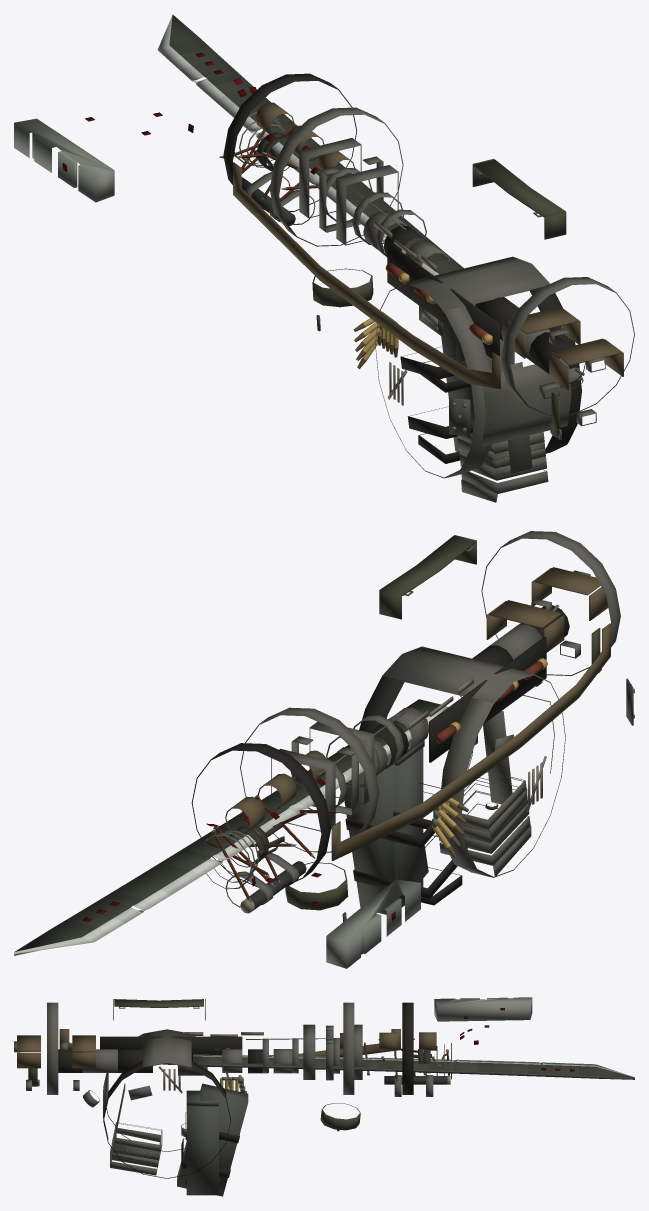
The model's file is weapons.glb.
3 renders of one model, top to bottom at view 1: azimuth 30°, elevation 25°; view 2: azimuth 150°, elevation 25°; view 3: azimuth 270°, elevation 25°, orthographic. The views are drawn at different scales.
Parts seen in each view (by area): view 1: FrissonWeapon_Rocket_Dress, FrissonWeapon_Minigun_DressFlat, FrissonWeapon_Minigun_Dress, FrissonWeapon_Katana_Replace_katanaBlade, FrissonWeapon_Sniper_Dress, FrissonWeapon_Assault_Dress, FrissonWeapon_Pistol_Dress, FrissonWeapon_Shotgun_Dress, FrissonWeapon_Fireaxe_Replace_fireaxeCuttingEdge, FrissonWeapon_Smg_Dress, FrissonWeapon_Bat_Dress, FrissonWeapon_Flamethrower_Dress (+4 smaller); view 2: FrissonWeapon_Rocket_Dress, FrissonWeapon_Katana_Replace_katanaBlade, FrissonWeapon_Minigun_Dress, FrissonWeapon_Assault_Dress, FrissonWeapon_Sniper_Dress, FrissonWeapon_Smg_Dress, FrissonWeapon_Shotgun_Dress, FrissonWeapon_Pistol_Dress, FrissonWeapon_Minigun_DressFlat, FrissonWeapon_Fireaxe_Replace_fireaxeCuttingEdge, FrissonWeapon_Bat_Dress, FrissonWeapon_Rifle_Dress (+4 smaller); view 3: FrissonWeapon_Katana_Replace_katanaBlade, FrissonWeapon_Smg_Dress, FrissonWeapon_Rocket_Dress, FrissonWeapon_Assault_Dress, FrissonWeapon_Sniper_Dress, FrissonWeapon_Shotgun_Dress, FrissonWeapon_Fireaxe_Replace_fireaxeCuttingEdge, FrissonWeapon_Minigun_Dress, FrissonWeapon_Pistol_Dress, FrissonWeapon_Bat_Dress, FrissonWeapon_Minigun_DressFlat, FrissonWeapon_Fireaxe_Dress (+4 smaller).
Part boxes in pixels (<box>): FrissonWeapon_Rocket_Dress: <box>223,73,634,415</box>; FrissonWeapon_Minigun_DressFlat: <box>406,256,571,446</box>; FrissonWeapon_Minigun_Dress: <box>375,159,581,478</box>; FrissonWeapon_Katana_Replace_katanaBlade: <box>157,14,463,275</box>; FrissonWeapon_Sniper_Dress: <box>255,102,623,440</box>; FrissonWeapon_Assault_Dress: <box>299,138,474,451</box>; FrissonWeapon_Pistol_Dress: <box>373,220,548,502</box>; FrissonWeapon_Shotgun_Dress: <box>241,172,499,358</box>; FrissonWeapon_Fireaxe_Replace_fireaxeCuttingEdge: <box>14,118,114,202</box>; FrissonWeapon_Smg_Dress: <box>319,156,605,463</box>; FrissonWeapon_Bat_Dress: <box>219,123,585,383</box>; FrissonWeapon_Flamethrower_Dress: <box>321,166,583,436</box>; FrissonWeapon_Rocket_Dress: <box>191,531,620,887</box>; FrissonWeapon_Katana_Replace_katanaBlade: <box>14,699,448,956</box>; FrissonWeapon_Minigun_Dress: <box>359,535,565,877</box>; FrissonWeapon_Assault_Dress: <box>271,722,467,914</box>; FrissonWeapon_Sniper_Dress: <box>225,567,608,834</box>; FrissonWeapon_Smg_Dress: <box>291,570,590,907</box>; FrissonWeapon_Shotgun_Dress: <box>225,637,547,913</box>; FrissonWeapon_Pistol_Dress: <box>408,677,531,876</box>; FrissonWeapon_Minigun_DressFlat: <box>382,646,554,773</box>; FrissonWeapon_Fireaxe_Replace_fireaxeCuttingEdge: <box>326,879,420,968</box>; FrissonWeapon_Bat_Dress: <box>205,605,569,902</box>; FrissonWeapon_Rifle_Dress: <box>285,798,468,921</box>; FrissonWeapon_Katana_Replace_katanaBlade: <box>193,1054,634,1079</box>; FrissonWeapon_Smg_Dress: <box>14,1025,333,1195</box>; FrissonWeapon_Rocket_Dress: <box>47,1002,413,1094</box>; FrissonWeapon_Assault_Dress: <box>177,1024,362,1196</box>; FrissonWeapon_Sniper_Dress: <box>17,1032,436,1086</box>; FrissonWeapon_Shotgun_Dress: <box>100,1036,450,1096</box>; FrissonWeapon_Fireaxe_Replace_fireaxeCuttingEdge: <box>434,997,532,1021</box>; FrissonWeapon_Minigun_Dress: <box>103,999,231,1178</box>; FrissonWeapon_Pistol_Dress: <box>110,1032,263,1175</box>; FrissonWeapon_Bat_Dress: <box>58,1034,449,1080</box>; FrissonWeapon_Minigun_DressFlat: <box>103,1029,191,1139</box>; FrissonWeapon_Fireaxe_Dress: <box>222,1008,504,1073</box>.
Bounding box in the file's own units: 0.4521 × 0.5299 × 1.57.
